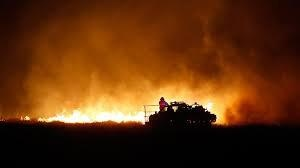fire: (13, 108, 148, 126)
